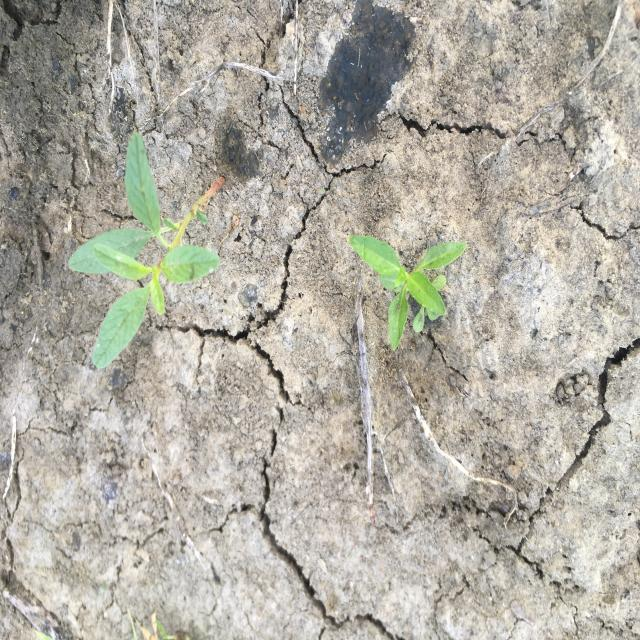Eclipta: (349, 232, 468, 352)
Waterhemp: (68, 130, 226, 372)
